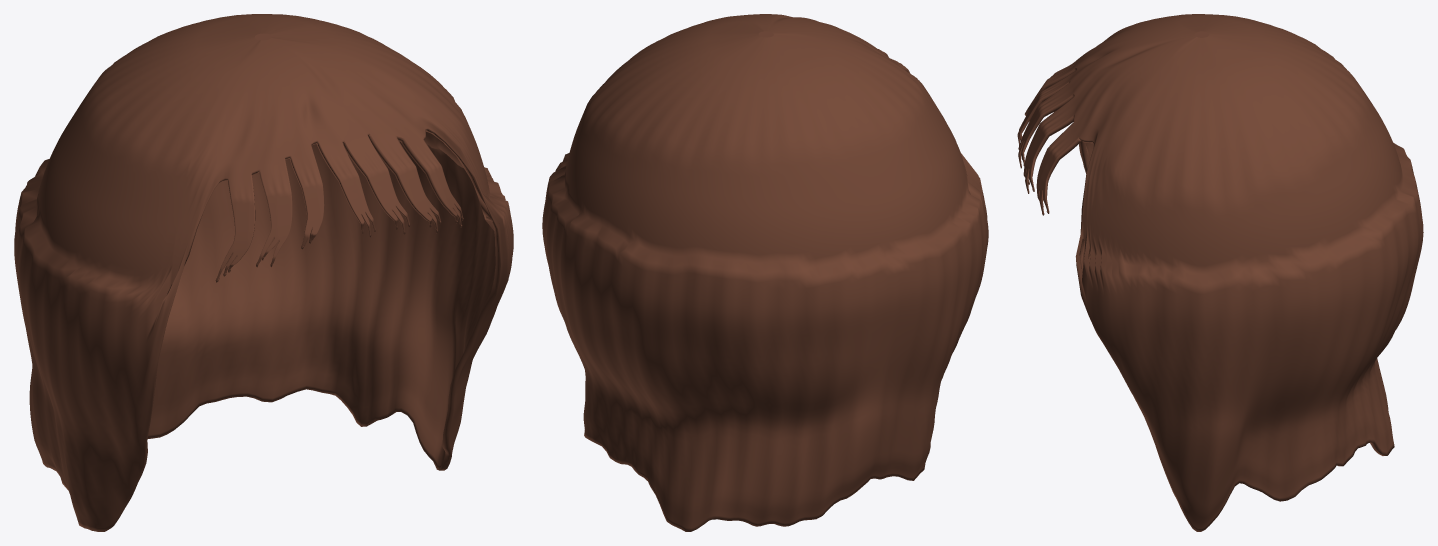
Rendered from side-sweep-beanie.glb.
The picture shows the model from 3 angles, left to right: view 1: azimuth 30°, elevation 25°; view 2: azimuth 150°, elevation 25°; view 3: azimuth 270°, elevation 25°; orthographic projection. The views are drawn at different scales.
Parts seen in each view (by area): view 1: Wispy bangs / continuous crown; view 2: Wispy bangs / continuous crown; view 3: Wispy bangs / continuous crown.
Boxes of the visible parts, box(x1,y1,x2,y2) form: Wispy bangs / continuous crown: box(14, 14, 513, 531); Wispy bangs / continuous crown: box(542, 14, 988, 531); Wispy bangs / continuous crown: box(1017, 14, 1423, 531).
Size of the model in its own units: 0.8388 by 0.8786 by 0.7676.
